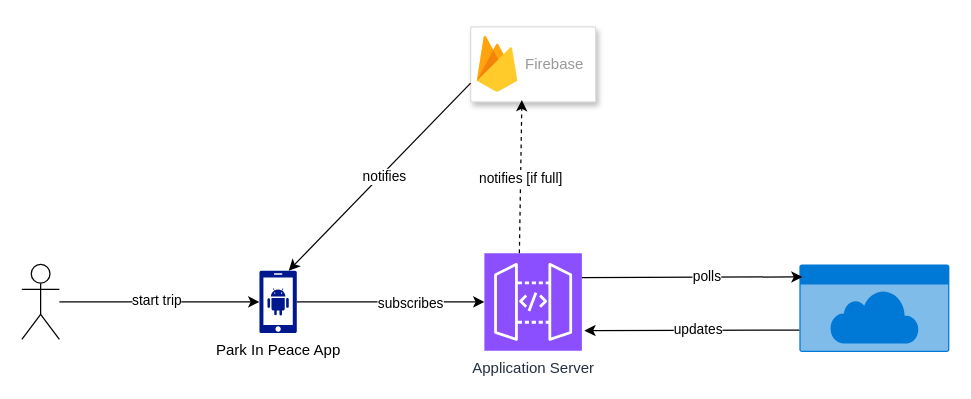
Image size: 971x399. Some labels were removed from this diagram. The shapes that lost their labels are listed below. From the top down, each one's centre as x and y in pixels, then its label:
At (40,301): "User".
At (874,307): "URA API".
